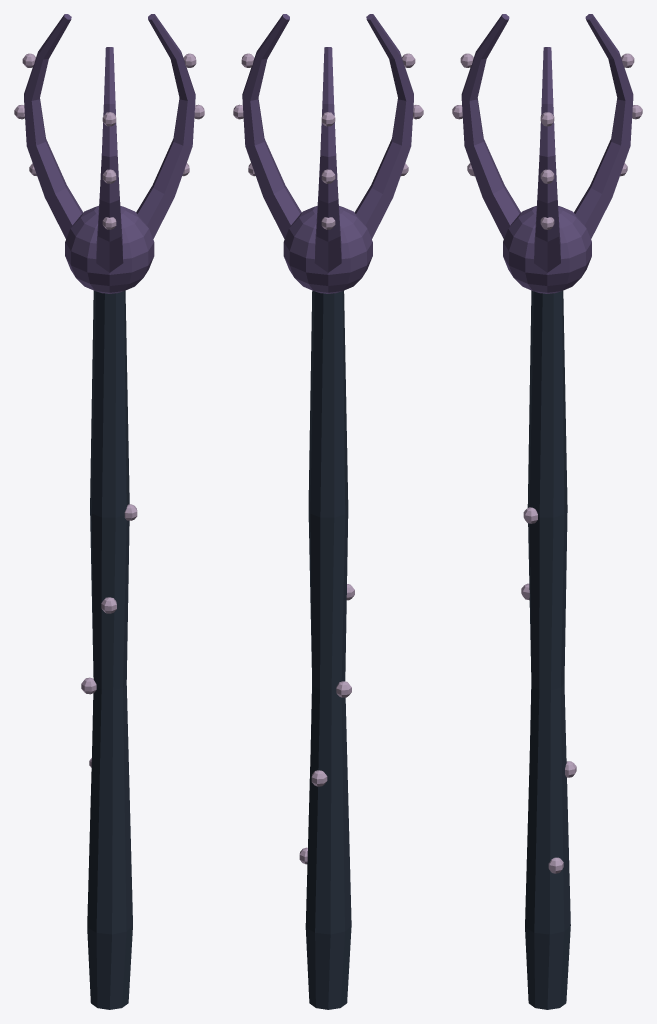
The model's file is staff_tentacle.glb.
The picture shows the model from 3 angles, left to right: view 1: azimuth 30°, elevation 25°; view 2: azimuth 150°, elevation 25°; view 3: azimuth 270°, elevation 25°; orthographic projection.
Parts seen in each view (by area): view 1: Ten_Shaft, Ten_Bulb, Ten_Arm1, Ten_Arm0, Ten_Arm2; view 2: Ten_Shaft, Ten_Bulb, Ten_Arm2, Ten_Arm0, Ten_Arm1; view 3: Ten_Shaft, Ten_Bulb, Ten_Arm1, Ten_Arm2, Ten_Arm0.
Part boxes in pixels (x1,y1,x2,y2): Ten_Shaft: (87,290,132,1009); Ten_Bulb: (65,206,154,293); Ten_Arm1: (24,14,83,238); Ten_Arm0: (136,14,195,238); Ten_Arm2: (96,47,123,272); Ten_Shaft: (305,290,351,1009); Ten_Bulb: (283,206,372,293); Ten_Arm2: (354,14,413,238); Ten_Arm0: (242,14,301,238); Ten_Arm1: (314,47,341,272); Ten_Shaft: (525,290,570,1009); Ten_Bulb: (503,206,591,293); Ten_Arm1: (574,14,633,238); Ten_Arm2: (461,14,520,238); Ten_Arm0: (534,47,560,272).
Size of the model in its own units: 0.3124 by 2.02 by 0.3575.
